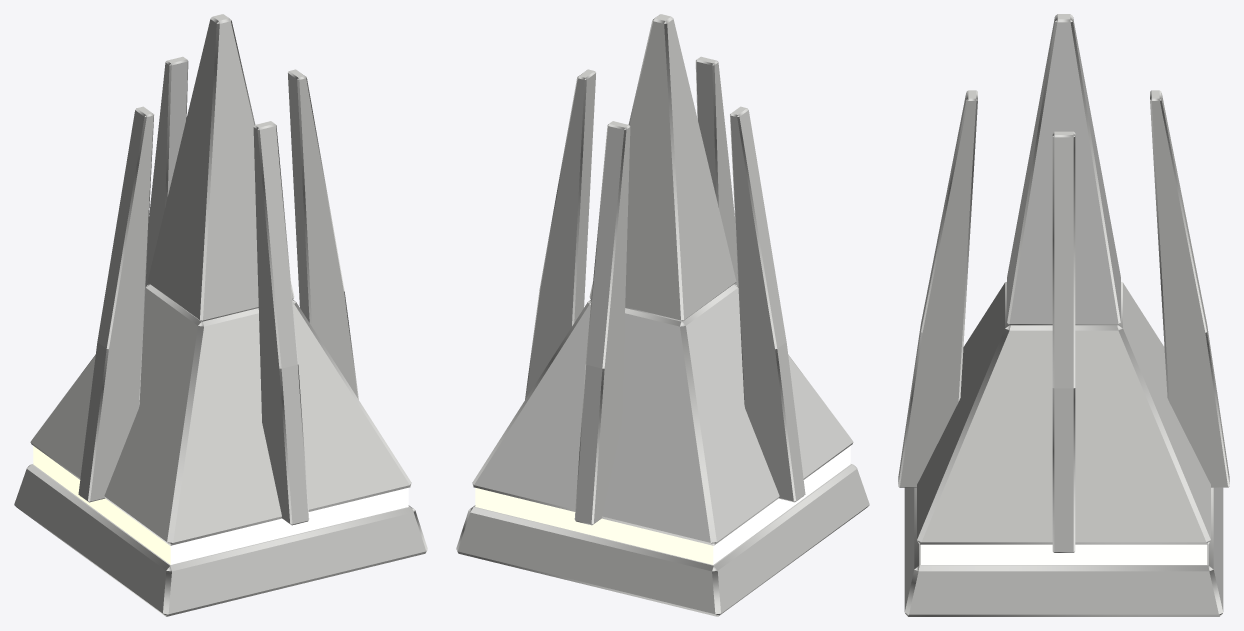
Rendered from SM_SB_Kit_Crown.fbx.
3 renders of one model, left to right at view 1: azimuth 30°, elevation 25°; view 2: azimuth 150°, elevation 25°; view 3: azimuth 270°, elevation 25°, orthographic. The views are drawn at different scales.
Parts seen in each view (by area): view 1: SM_SB_Kit_Crown; view 2: SM_SB_Kit_Crown; view 3: SM_SB_Kit_Crown.
Part boxes in pixels (x1,y1,x2,y2): SM_SB_Kit_Crown: (14,14,427,616); SM_SB_Kit_Crown: (456,14,869,616); SM_SB_Kit_Crown: (898,14,1229,616).
Size of the model in its own units: 116 by 116 by 206.
